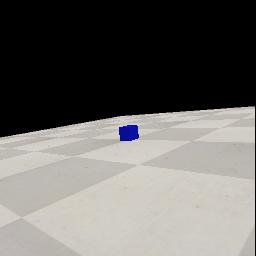box: (119, 125, 139, 141)
